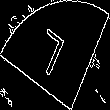L_SW: (35, 24, 75, 86)
